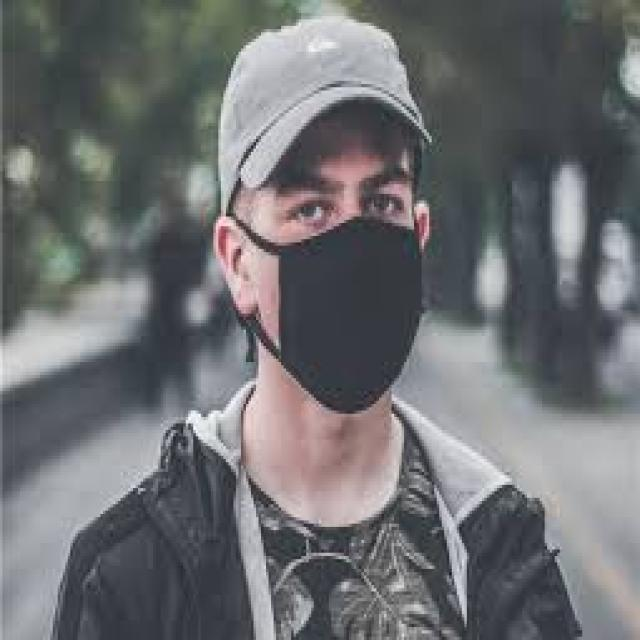3_gorra: (214, 14, 436, 192)
